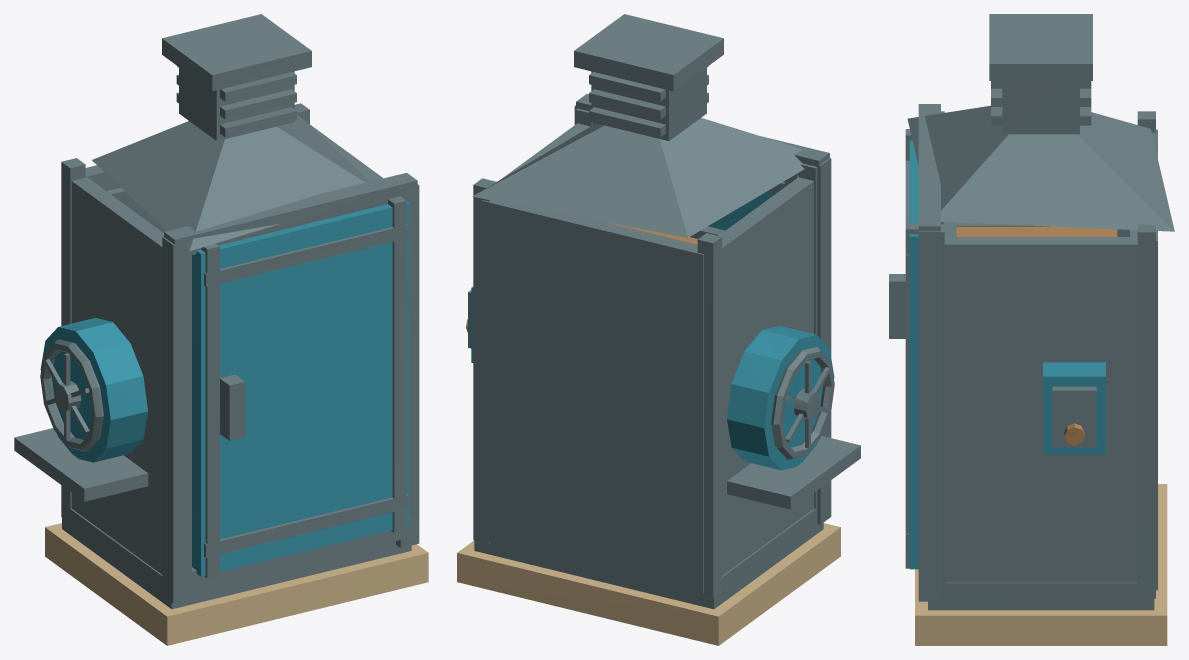
File: dehydrator.source.glb
The picture shows the model from 3 angles, left to right: view 1: azimuth 30°, elevation 25°; view 2: azimuth 150°, elevation 25°; view 3: azimuth 270°, elevation 25°; orthographic projection. The views are drawn at different scales.
Parts seen in each view (by area): view 1: dehydrator-teal-front-door-panel-mesh, dehydrator-left-galvanized-panel-mesh, dehydrator-faceted-exhaust-hood-mesh, dehydrator-cream-ground-plinth-mesh, dehydrator-front-vertical-frame--0.73-mesh, dehydrator-side-fan-housing-body-mesh, dehydrator-exhaust-rain-cap-mesh, dehydrator-dark-base-frame-mesh, dehydrator-front-top-frame-mesh, dehydrator-door-vertical-edge--1.27-mesh, dehydrator-door-vertical-edge--0.07-mesh, dehydrator-fan-support-shelf-mesh (+13 smaller); view 2: dehydrator-rear-galvanized-panel-mesh, dehydrator-faceted-exhaust-hood-mesh, dehydrator-left-galvanized-panel-mesh, dehydrator-cream-ground-plinth-mesh, dehydrator-side-fan-housing-body-mesh, dehydrator-exhaust-rain-cap-mesh, dehydrator-corner-post--0.72--0.57-mesh, dehydrator-dark-base-frame-mesh, dehydrator-fan-support-shelf-mesh, dehydrator-front-vertical-frame--0.73-mesh, dehydrator-corner-post-0.72--0.57-mesh, dehydrator-exhaust-stack-core-mesh (+9 smaller); view 3: dehydrator-right-galvanized-panel-mesh, dehydrator-faceted-exhaust-hood-mesh, dehydrator-cream-ground-plinth-mesh, dehydrator-front-vertical-frame-0.73-mesh, dehydrator-corner-post-0.72--0.57-mesh, dehydrator-exhaust-rain-cap-mesh, dehydrator-dark-base-frame-mesh, dehydrator-exhaust-stack-core-mesh, dehydrator-teal-front-door-panel-mesh, dehydrator-teal-control-box-mesh, dehydrator-control-box-face-mesh, dehydrator-front-top-frame-mesh (+5 smaller).
Boxes of the visible parts, x1=… form: dehydrator-teal-front-door-panel-mesh: x1=192, y1=201, x2=409, y2=576; dehydrator-left-galvanized-panel-mesh: x1=71, y1=176, x2=163, y2=574; dehydrator-faceted-exhaust-hood-mesh: x1=92, y1=114, x2=369, y2=251; dehydrator-cream-ground-plinth-mesh: x1=45, y1=523, x2=428, y2=645; dehydrator-front-vertical-frame--0.73-mesh: x1=162, y1=237, x2=191, y2=603; dehydrator-side-fan-housing-body-mesh: x1=40, y1=318, x2=147, y2=462; dehydrator-exhaust-rain-cap-mesh: x1=162, y1=14, x2=311, y2=91; dehydrator-dark-base-frame-mesh: x1=62, y1=503, x2=411, y2=609; dehydrator-front-top-frame-mesh: x1=164, y1=172, x2=417, y2=259; dehydrator-door-vertical-edge--1.27-mesh: x1=201, y1=243, x2=219, y2=578; dehydrator-door-vertical-edge--0.07-mesh: x1=388, y1=196, x2=406, y2=532; dehydrator-fan-support-shelf-mesh: x1=14, y1=428, x2=148, y2=501; dehydrator-rear-galvanized-panel-mesh: x1=482, y1=200, x2=703, y2=593; dehydrator-faceted-exhaust-hood-mesh: x1=472, y1=118, x2=804, y2=237; dehydrator-left-galvanized-panel-mesh: x1=718, y1=177, x2=813, y2=575; dehydrator-cream-ground-plinth-mesh: x1=457, y1=523, x2=840, y2=645; dehydrator-side-fan-housing-body-mesh: x1=727, y1=325, x2=834, y2=470; dehydrator-exhaust-rain-cap-mesh: x1=574, y1=14, x2=723, y2=91; dehydrator-corner-post--0.72--0.57-mesh: x1=697, y1=233, x2=722, y2=598; dehydrator-dark-base-frame-mesh: x1=474, y1=508, x2=823, y2=609; dehydrator-fan-support-shelf-mesh: x1=727, y1=436, x2=860, y2=509; dehydrator-front-vertical-frame--0.73-mesh: x1=802, y1=158, x2=831, y2=524; dehydrator-corner-post-0.72--0.57-mesh: x1=473, y1=178, x2=496, y2=543; dehydrator-exhaust-stack-core-mesh: x1=591, y1=67, x2=706, y2=140; dehydrator-right-galvanized-panel-mesh: x1=944, y1=237, x2=1137, y2=582; dehydrator-faceted-exhaust-hood-mesh: x1=907, y1=105, x2=1174, y2=231; dehydrator-cream-ground-plinth-mesh: x1=915, y1=484, x2=1167, y2=645; dehydrator-front-vertical-frame-0.73-mesh: x1=918, y1=231, x2=940, y2=601; dehydrator-corner-post-0.72--0.57-mesh: x1=1137, y1=224, x2=1155, y2=598; dehydrator-exhaust-rain-cap-mesh: x1=989, y1=14, x2=1092, y2=80; dehydrator-dark-base-frame-mesh: x1=928, y1=582, x2=1154, y2=610; dehydrator-exhaust-stack-core-mesh: x1=1002, y1=81, x2=1079, y2=134; dehydrator-teal-front-door-panel-mesh: x1=909, y1=140, x2=918, y2=569; dehydrator-teal-control-box-mesh: x1=1043, y1=362, x2=1105, y2=453; dehydrator-control-box-face-mesh: x1=1052, y1=386, x2=1096, y2=447; dehydrator-front-top-frame-mesh: x1=918, y1=104, x2=940, y2=231.
Size of the model in its own units: 2.21 by 3.22 by 1.54.
